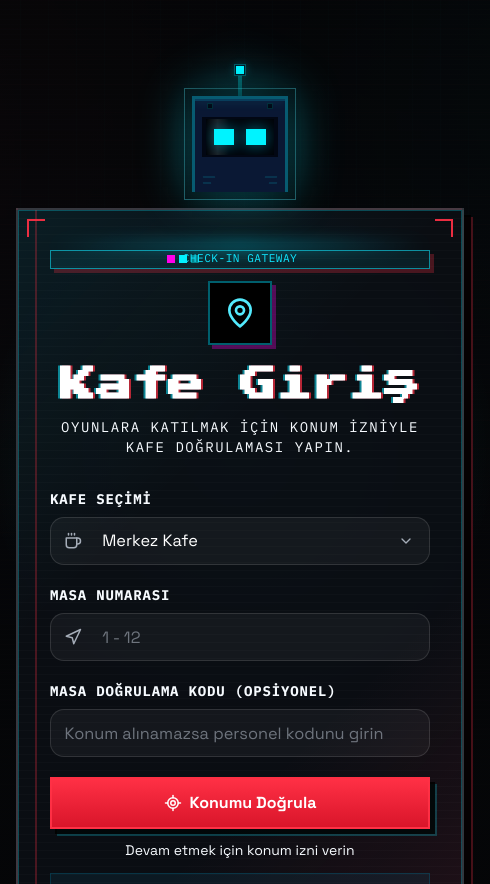
it: CafeSelection › shows location permission error when denied
Type "2" into the number field at (240, 637), box [50,613,430,661]
(page scrolled)
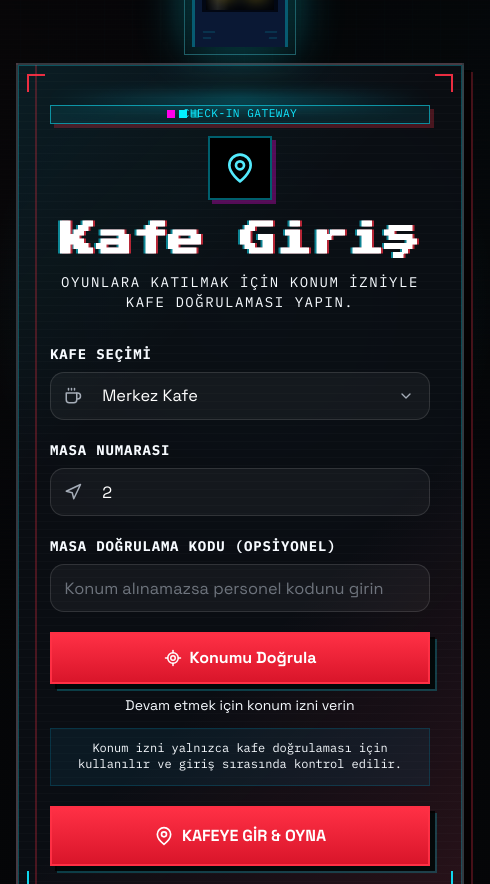
Click the button "KAFEYE GİR & OYNA" at (240, 836), box [50,806,430,866]
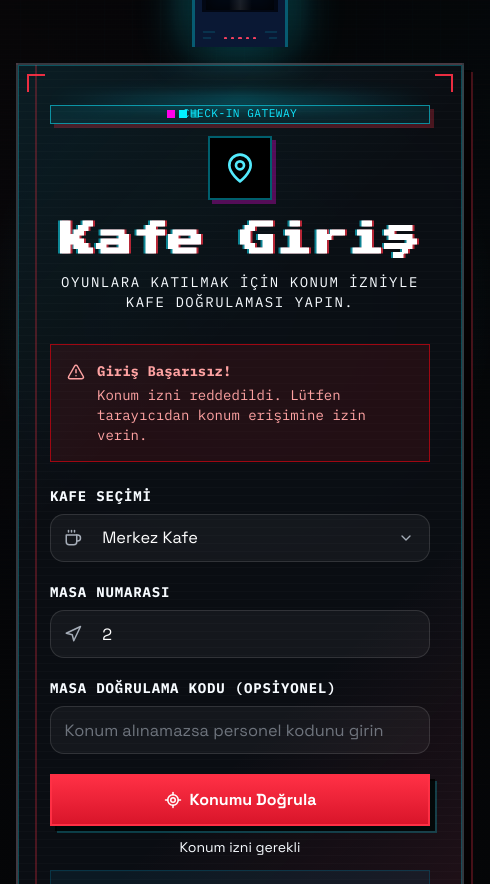
Expected: the text "Konum izni reddedildi" is shown, [97,386,366,444]
